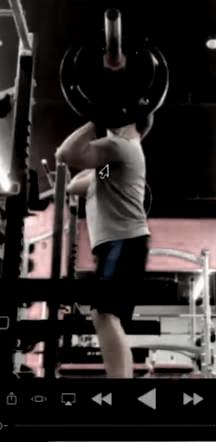Barbell: (101, 7, 120, 25)
